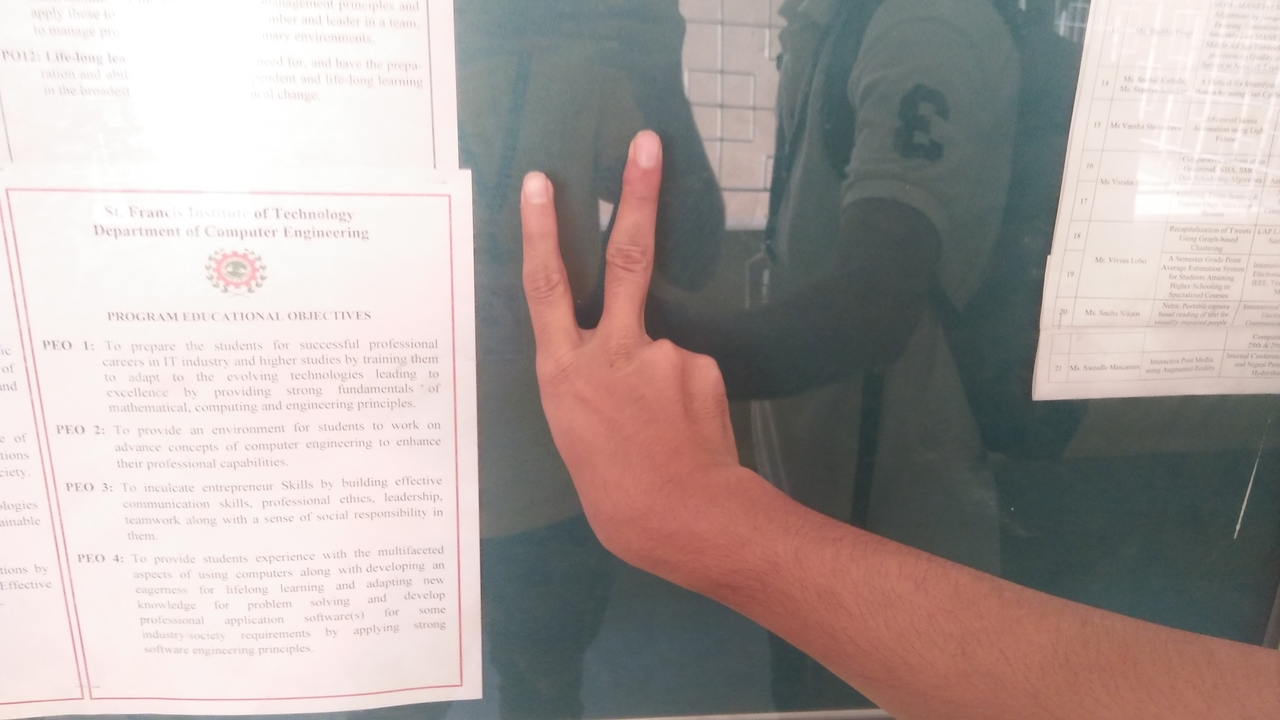fingertip: (614, 116, 670, 172), (508, 162, 562, 212)
